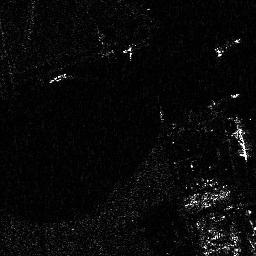ship: (213, 38, 241, 57)
